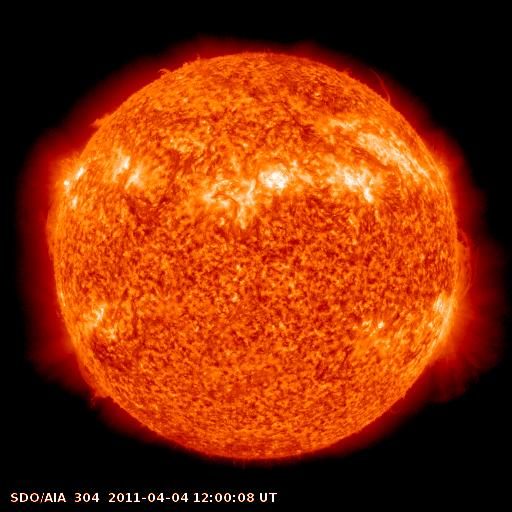prominence: (327, 57, 401, 111), (446, 222, 496, 301), (64, 347, 120, 405), (35, 197, 67, 267), (154, 48, 208, 84), (87, 106, 115, 138)
